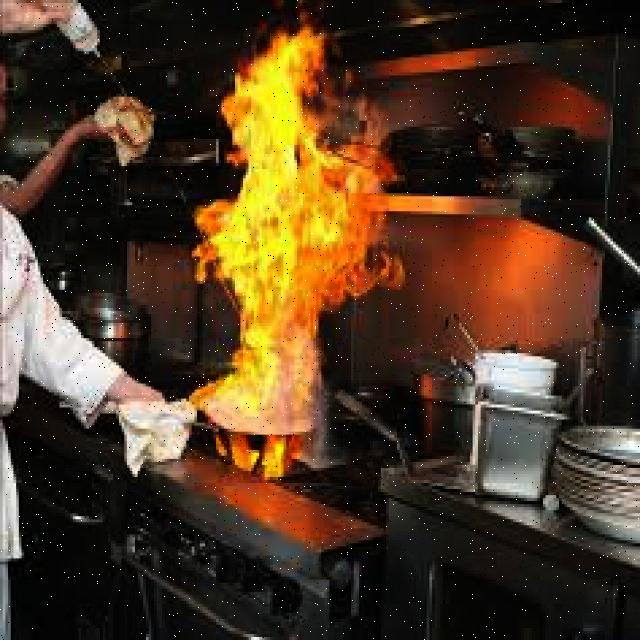fire: (222, 44, 371, 479)
